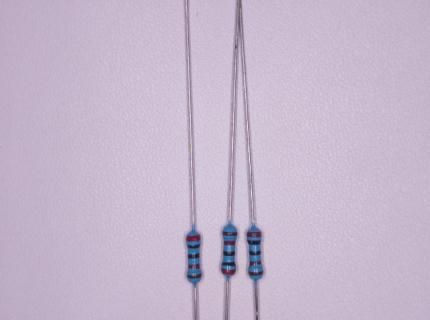Black band: (247, 239, 261, 245), (221, 261, 236, 266), (188, 252, 200, 258), (249, 250, 260, 256), (187, 244, 200, 249), (223, 251, 235, 256)
Brown band: (187, 273, 202, 279), (248, 270, 263, 276), (222, 231, 238, 236)
Red band: (186, 234, 201, 241), (247, 231, 262, 238), (222, 268, 236, 275), (188, 264, 200, 269), (250, 261, 262, 266), (224, 241, 235, 246)
